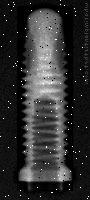Neodent: (17, 6, 73, 191)
